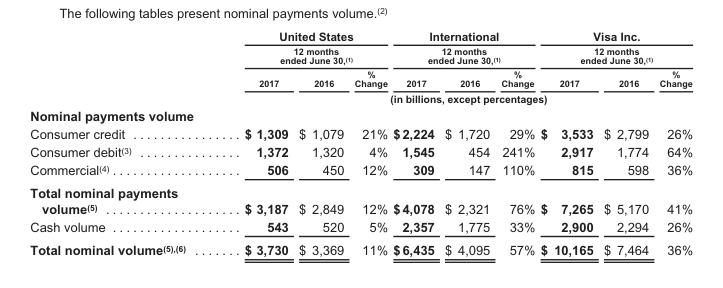table: (29, 28, 692, 256)
table column: (29, 28, 214, 256), (214, 28, 292, 256), (537, 28, 597, 256), (292, 28, 348, 256), (438, 28, 494, 256), (597, 28, 653, 256), (389, 28, 438, 256), (494, 28, 537, 256), (348, 28, 389, 256), (653, 28, 692, 256)
table column header: (29, 28, 692, 105)
table projected row header: (29, 105, 692, 124)
table row: (29, 28, 692, 66), (29, 181, 692, 217), (29, 66, 692, 90), (29, 160, 692, 181), (29, 217, 692, 237), (29, 105, 692, 124), (29, 237, 692, 256), (29, 124, 692, 142), (29, 142, 692, 160), (29, 90, 692, 105)
table spanning cell: (214, 90, 692, 105), (214, 28, 389, 66), (537, 28, 692, 66), (389, 28, 537, 66)
